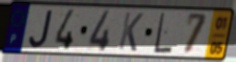4: (87, 9, 111, 53), (53, 8, 76, 52)
7: (183, 12, 210, 56)
J: (28, 8, 55, 50)
K: (116, 11, 145, 54)
L: (153, 12, 174, 55)
